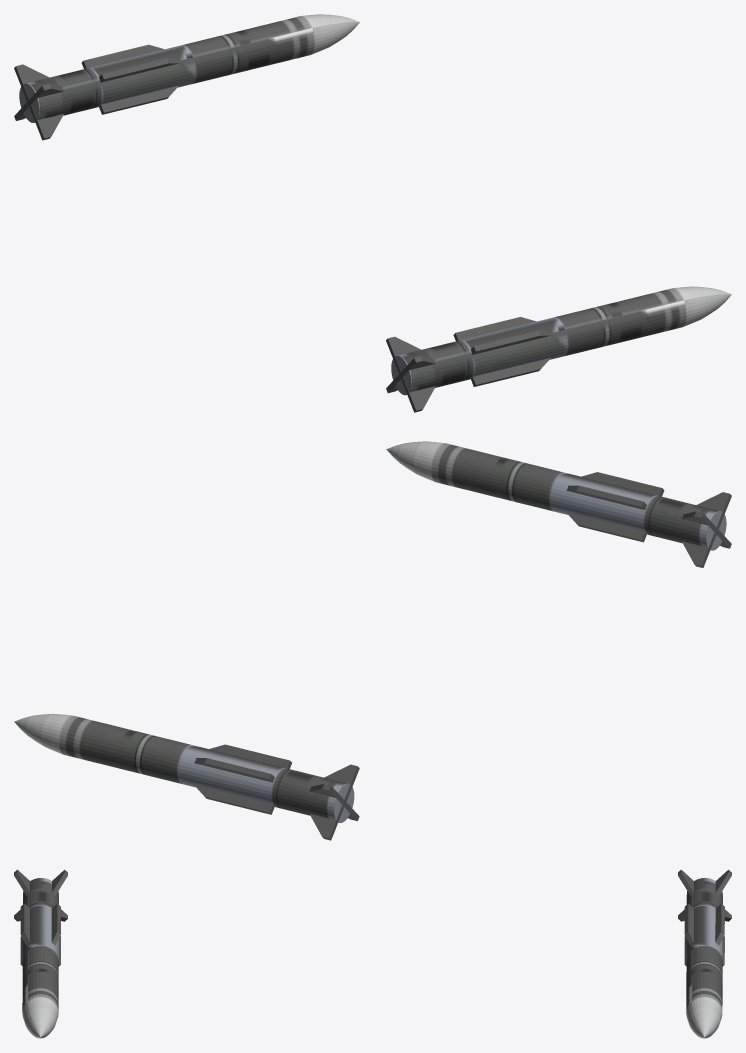
3 views of the same model, one above another, from view 1: azimuth 30°, elevation 25°; view 2: azimuth 150°, elevation 25°; view 3: azimuth 270°, elevation 25° (orthographic). The views are drawn at different scales.
Parts seen in each view (by area): view 1: 円柱.006, 円柱.007; view 2: 円柱.006, 円柱.007; view 3: 円柱.007, 円柱.006.
Part boxes in pixels (box(x1,y1,x2,y2)): 円柱.006: box(386, 286, 731, 412); 円柱.007: box(14, 14, 359, 140); 円柱.006: box(386, 441, 731, 567); 円柱.007: box(14, 713, 359, 840); 円柱.007: box(678, 869, 731, 1038); 円柱.006: box(14, 869, 67, 1038).
Size of the model in its own units: 5.01 by 0.7959 by 10.56.
Materials: 3 (1 with a texture image).
